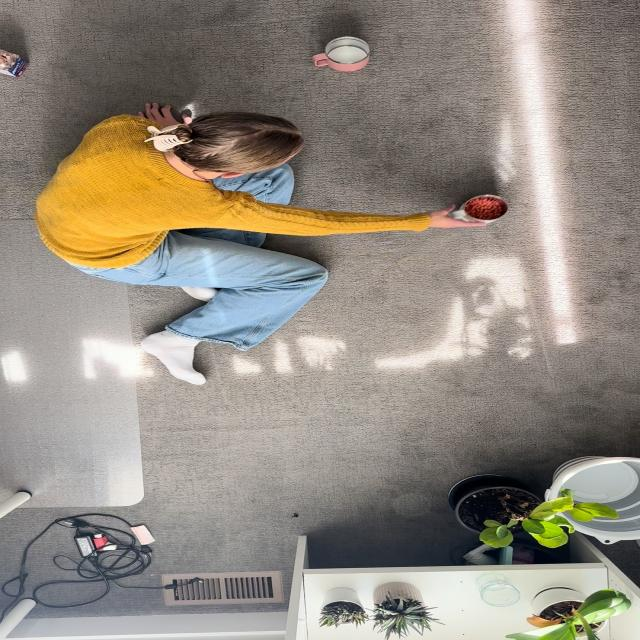IBC: (312, 36, 370, 72), (449, 194, 507, 223)
